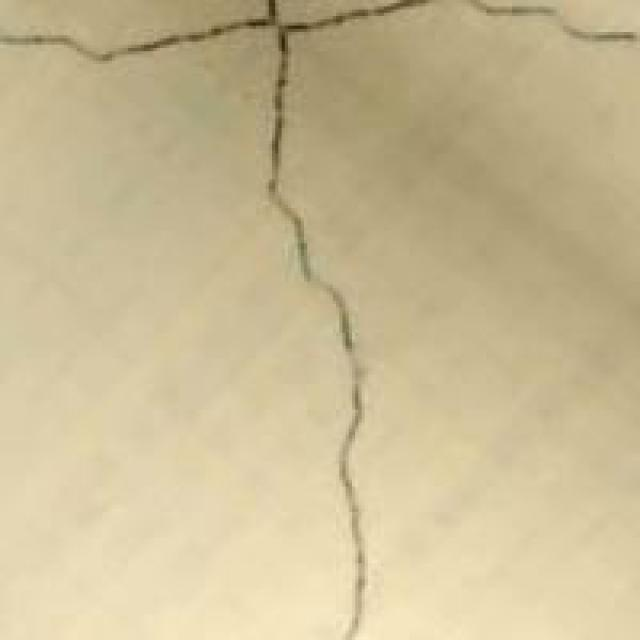crack: (0, 3, 634, 637)
